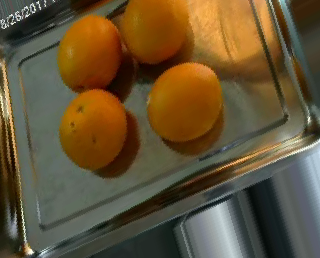Orange: (145, 61, 222, 142), (58, 88, 127, 169), (56, 13, 121, 91), (121, 1, 190, 61)
